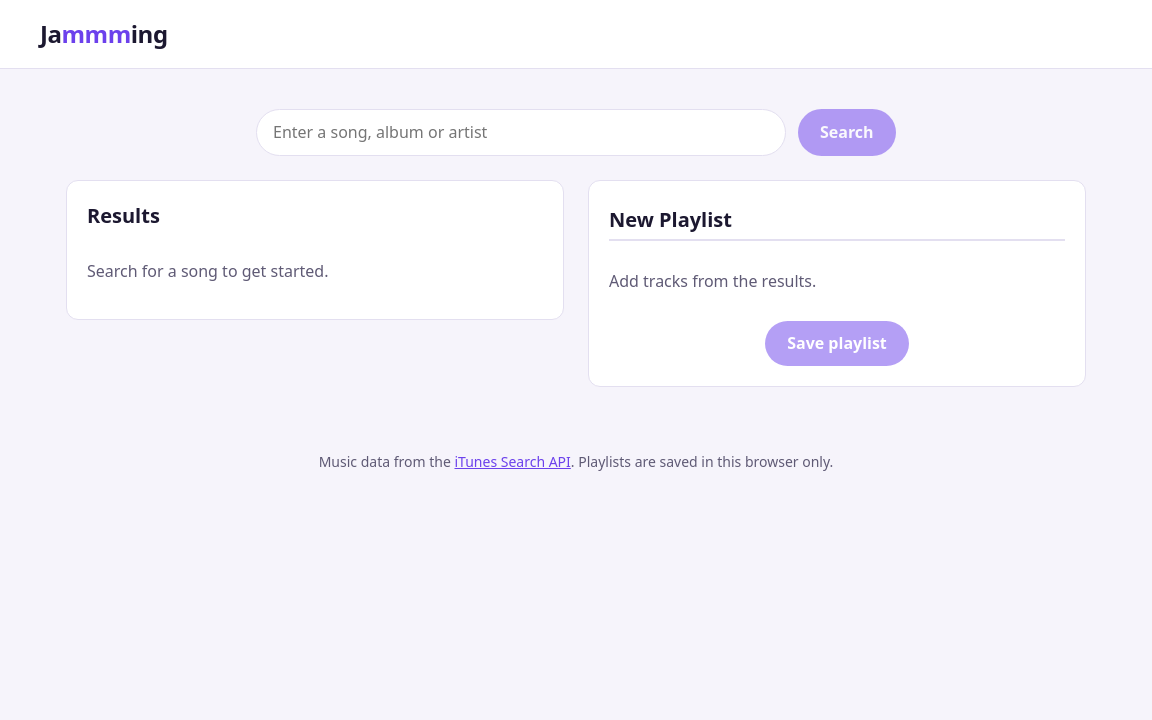
it: App › plays one preview at a time and toggles it off
In the search field: (521, 132) [256,109,786,156], type "neil"
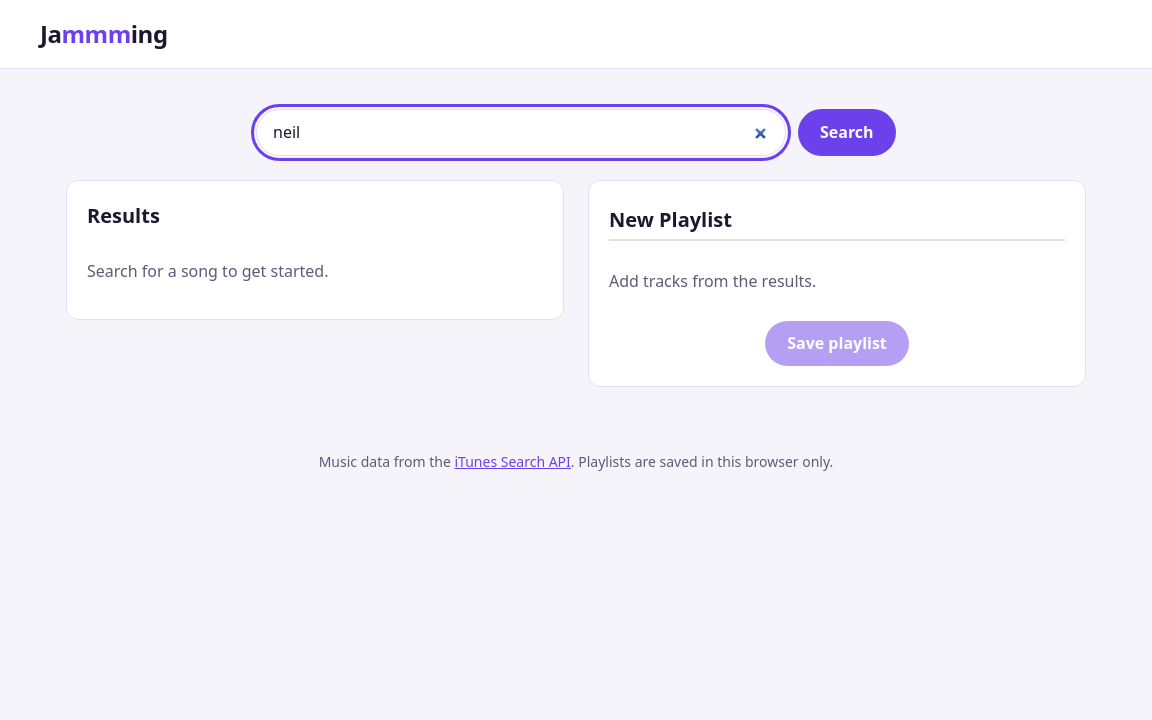
Click the button "Search": (847, 132) [798,109,896,156]
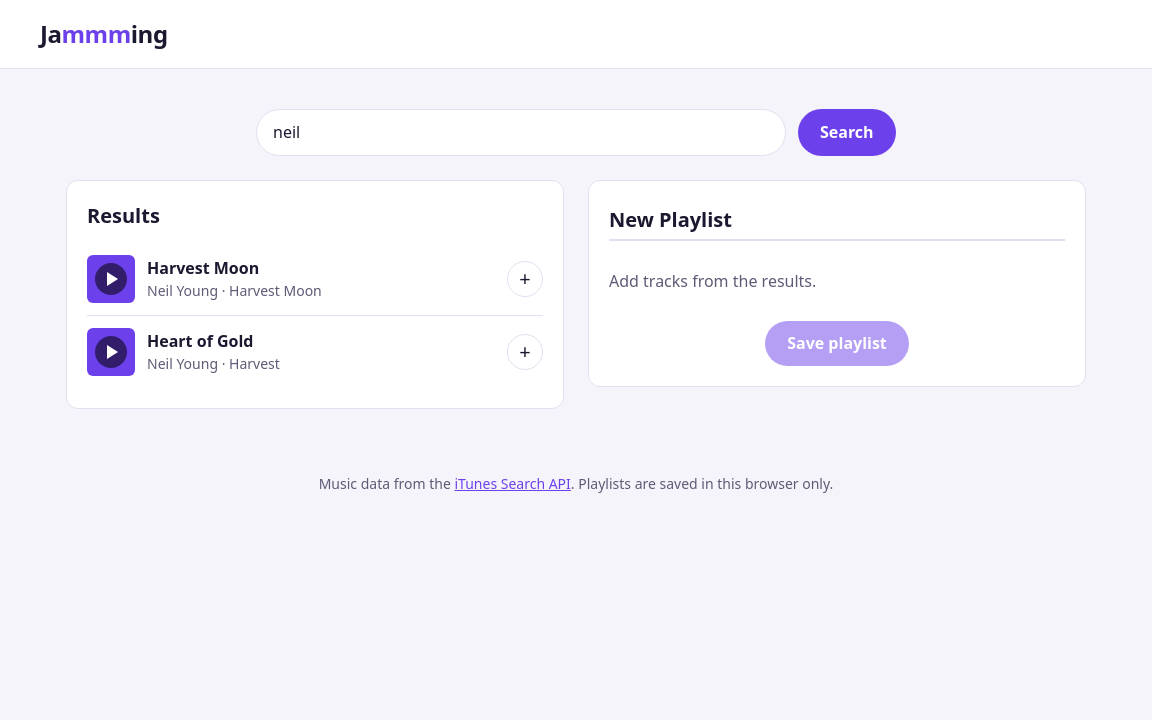
Click the button named "Play preview of Harvest Moon": (111, 279) [87,255,135,303]
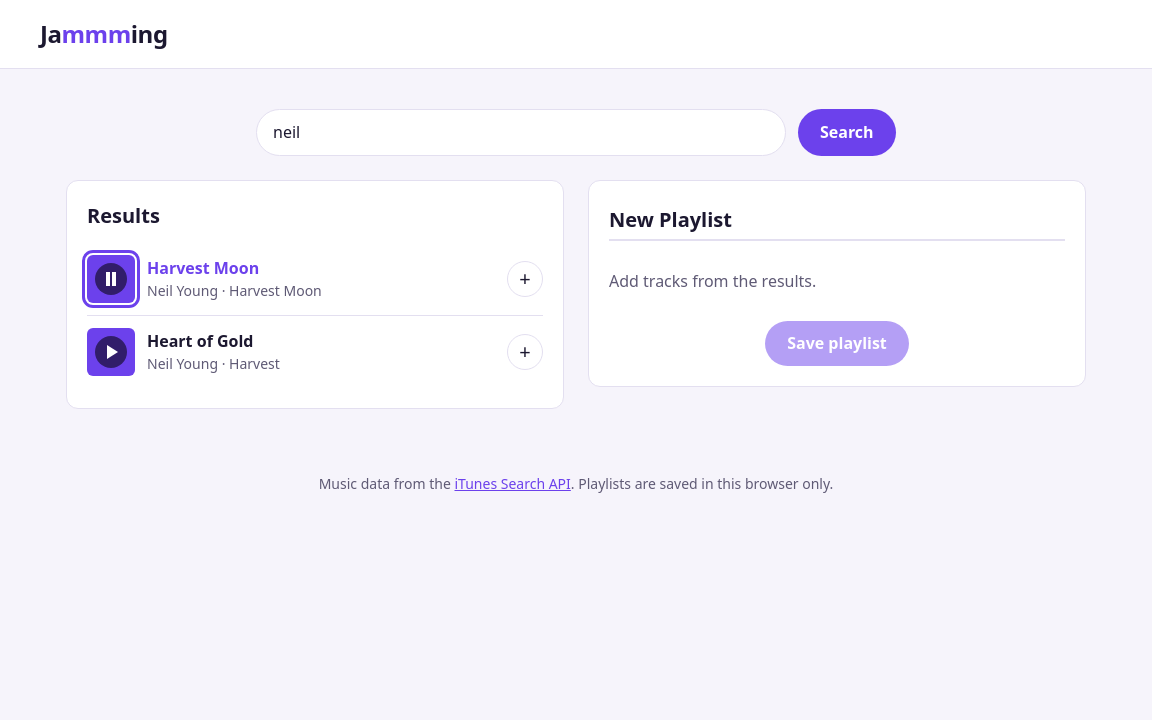
Click the button named "Play preview of Heart of Gold": (111, 352) [87,328,135,376]
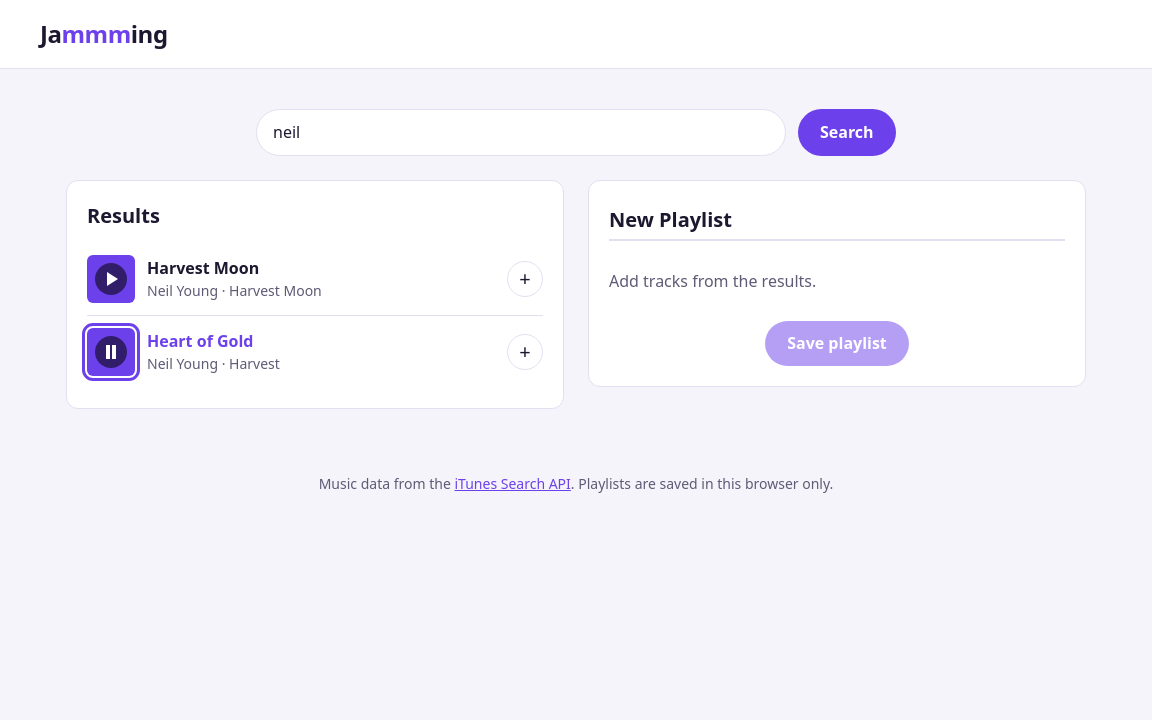
Click the button named "Pause preview of Heart of Gold": (111, 352) [87,328,135,376]
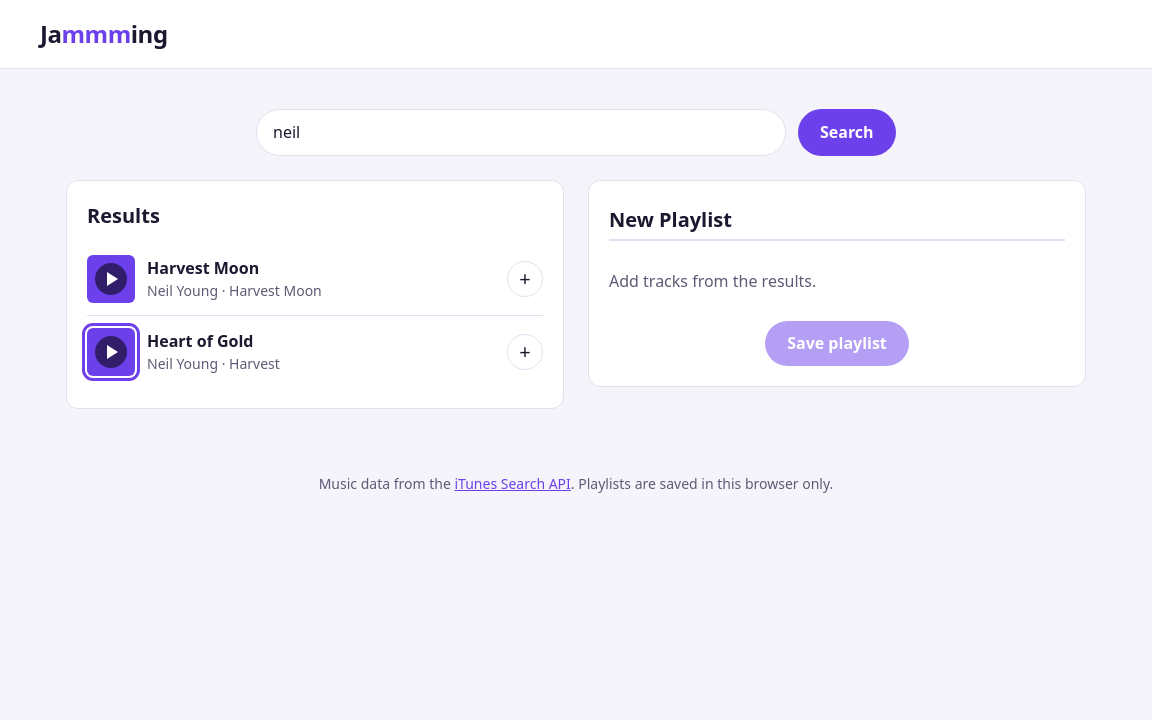
Expected: the button named "Play preview of Heart of Gold" is shown, [87,328,135,376]
